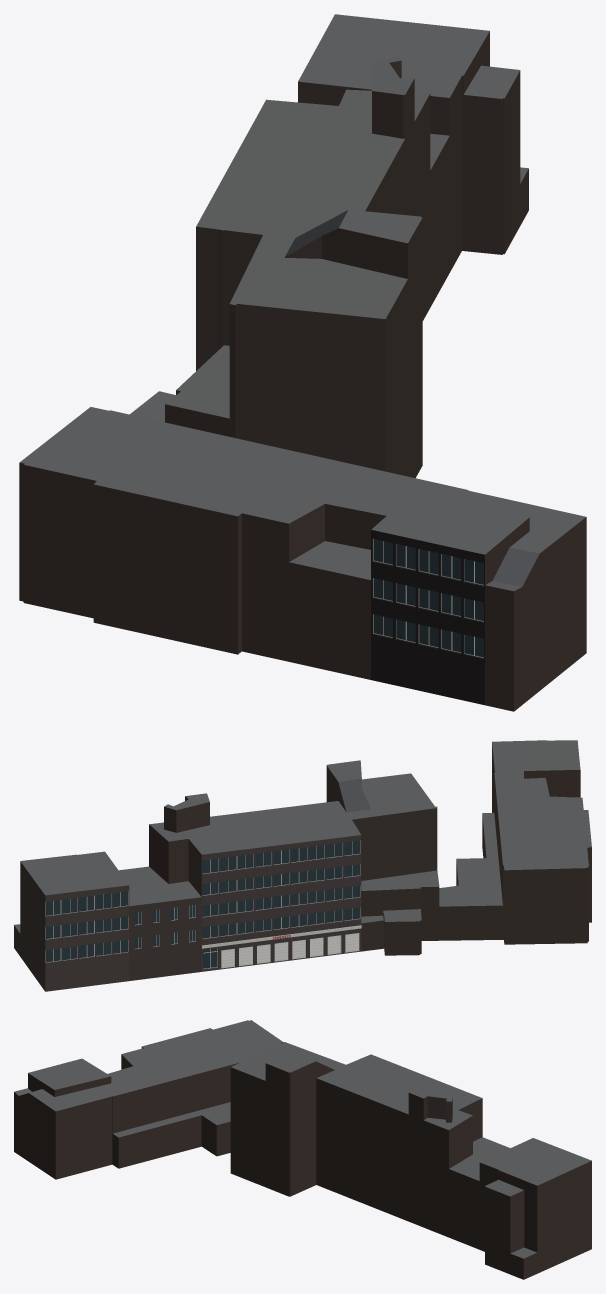
Rendered from recipe-large-politie-ij-tunnel.glb.
3 views of the same model, one above another, from view 1: azimuth 30°, elevation 25°; view 2: azimuth 150°, elevation 25°; view 3: azimuth 270°, elevation 25° (orthographic). The views are drawn at different scales.
Visible parts, largest first — view 1: politie-ij-tunnel; view 2: politie-ij-tunnel; view 3: politie-ij-tunnel.
Part boxes in pixels (x1,y1,x2,y2): politie-ij-tunnel: (19,14,586,711); politie-ij-tunnel: (14,740,591,991); politie-ij-tunnel: (14,1020,591,1279).
Bounding box in the file's own units: 76.37 × 24.1 × 97.8.
